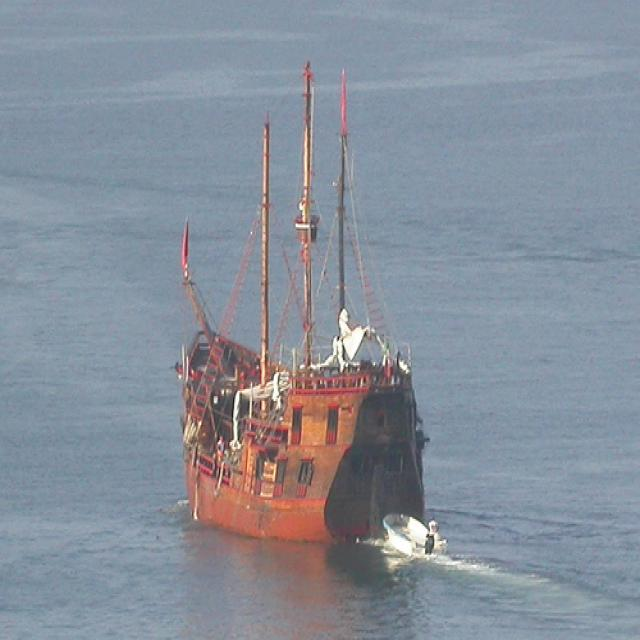boat: (170, 62, 425, 544), (382, 511, 448, 559)
